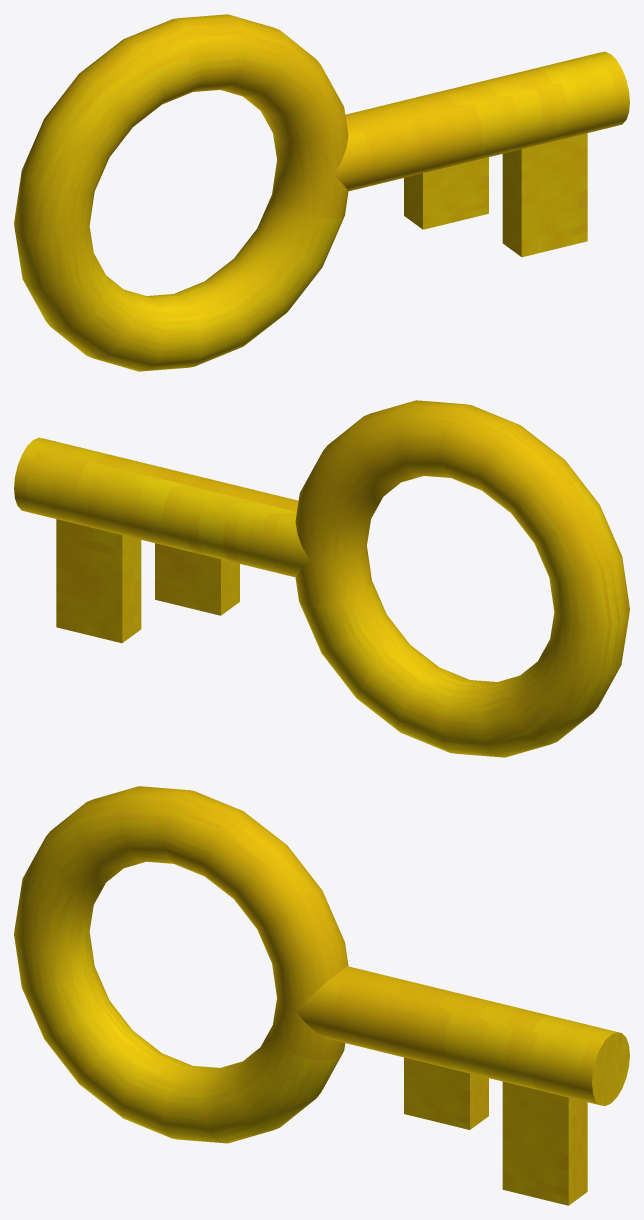
The model's file is key.fbx.
3 renders of one model, top to bottom at view 1: azimuth 30°, elevation 25°; view 2: azimuth 150°, elevation 25°; view 3: azimuth 330°, elevation 25°, orthographic.
Parts seen in each view (by area): view 1: pTorus1, pCylinder1, pCube2, pCube1; view 2: pTorus1, pCylinder1, pCube2, pCube1; view 3: pTorus1, pCylinder1, pCube2, pCube1.
Boxes of the visible parts, x1,y1,x2,y2 form: pTorus1: (14, 14, 348, 371); pCylinder1: (334, 51, 629, 191); pCube2: (502, 133, 587, 257); pCube1: (404, 157, 488, 229); pTorus1: (295, 400, 629, 757); pCylinder1: (14, 437, 309, 577); pCube2: (56, 519, 141, 643); pCube1: (155, 543, 239, 615); pTorus1: (14, 786, 348, 1143); pCylinder1: (296, 966, 629, 1105); pCube2: (502, 1081, 587, 1205); pCube1: (404, 1057, 488, 1129).
Size of the model in its own units: 0.9 by 0.5 by 0.1.
Materials: 1 (1 with a texture image).
